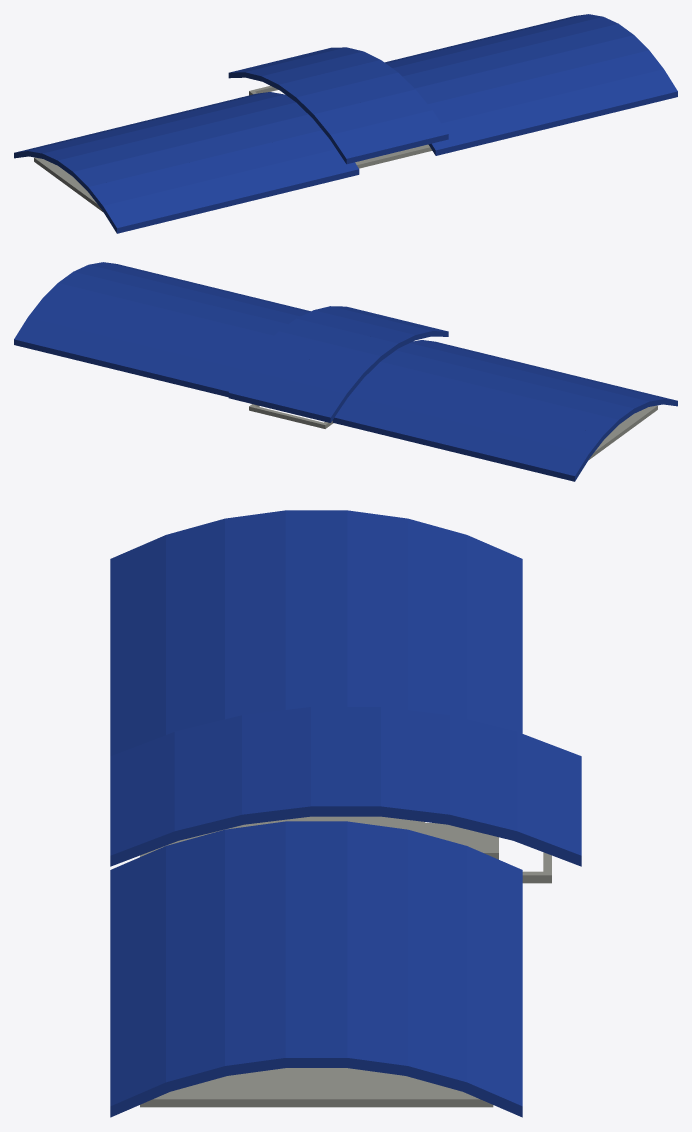
Rendered from 231110AC11-Institute-Var-2-IFC_Dachgeschoss_IfcSlab.dae.
3 renders of one model, top to bottom at view 1: azimuth 30°, elevation 25°; view 2: azimuth 150°, elevation 25°; view 3: azimuth 270°, elevation 25°, orthographic. The views are drawn at different scales.
Visible parts, largest first — view 1: 3x663a8XD65viEHNLVdTxd, 3qT9lE$bTCQB_T41jFK_q6, 3Kn4W2ZqD4K8KzX7iS3xhj, 01Q5XSApT1A8MVwFMrw27s, 0UobTn5dzETeVPsaqJjGpw, 1m13_kW2X8DhPK7Uom15kV, 0_6U2wqx5EygCAIw2ocirl, 0LG1dnAtn4qQamxBPgaWX7, 2j5_0TlNP02vq$h$fhXZI2, 0NhW4VLIbBiuXKiyGrq3kz, 2sqOrgHH1BIwrN$KcJhc_B, 03TjDzhOTFX9jbLMrZ04Ko (+10 smaller); view 2: 01DPZ9SBn5r9Sivd0bV8Ar, 1GL3Bl4yrCY9XKlcdMQiXb, 0hEXM06OrA5gv_ZOu0dPhm, 1sX1eJEdn4tx6WnOEIL8As, 0NhW4VLIbBiuXKiyGrq3kz, 03TjDzhOTFX9jbLMrZ04Ko, 0_6U2wqx5EygCAIw2ocirl, 09JX$lRj14w8LMwtAomZqY, 2j5_0TlNP02vq$h$fhXZI2, 0UobTn5dzETeVPsaqJjGpw, 2s4YT_DyvEIwBQu$XLcqVB, 1m13_kW2X8DhPK7Uom15kV (+10 smaller); view 3: 2j5_0TlNP02vq$h$fhXZI2, 03TjDzhOTFX9jbLMrZ04Ko, 1m13_kW2X8DhPK7Uom15kV, 01Q5XSApT1A8MVwFMrw27s, 1sX1eJEdn4tx6WnOEIL8As, 3qT9lE$bTCQB_T41jFK_q6, 1GL3Bl4yrCY9XKlcdMQiXb, 2qBBp57vj5yguk4qD5Rp6P, 0_6U2wqx5EygCAIw2ocirl, 0UobTn5dzETeVPsaqJjGpw, 0NhW4VLIbBiuXKiyGrq3kz, 3Kn4W2ZqD4K8KzX7iS3xhj (+10 smaller).
Part boxes in pixels (<box>): 3x663a8XD65viEHNLVdTxd: <box>102,149,359,233</box>; 3qT9lE$bTCQB_T41jFK_q6: <box>428,69,677,155</box>; 3Kn4W2ZqD4K8KzX7iS3xhj: <box>88,130,335,209</box>; 01Q5XSApT1A8MVwFMrw27s: <box>428,50,663,123</box>; 0UobTn5dzETeVPsaqJjGpw: <box>73,114,321,191</box>; 1m13_kW2X8DhPK7Uom15kV: <box>415,35,648,104</box>; 0_6U2wqx5EygCAIw2ocirl: <box>58,102,308,176</box>; 0LG1dnAtn4qQamxBPgaWX7: <box>329,110,448,164</box>; 2j5_0TlNP02vq$h$fhXZI2: <box>402,23,633,88</box>; 0NhW4VLIbBiuXKiyGrq3kz: <box>42,94,295,165</box>; 2sqOrgHH1BIwrN$KcJhc_B: <box>313,89,431,138</box>; 03TjDzhOTFX9jbLMrZ04Ko: <box>392,17,618,76</box>; 01DPZ9SBn5r9Sivd0bV8Ar: <box>332,395,589,481</box>; 1GL3Bl4yrCY9XKlcdMQiXb: <box>14,317,243,397</box>; 0hEXM06OrA5gv_ZOu0dPhm: <box>350,377,603,457</box>; 1sX1eJEdn4tx6WnOEIL8As: <box>28,298,258,369</box>; 0NhW4VLIbBiuXKiyGrq3kz: <box>365,362,618,439</box>; 03TjDzhOTFX9jbLMrZ04Ko: <box>43,283,273,350</box>; 0_6U2wqx5EygCAIw2ocirl: <box>381,350,633,424</box>; 09JX$lRj14w8LMwtAomZqY: <box>228,369,347,422</box>; 2j5_0TlNP02vq$h$fhXZI2: <box>58,271,287,335</box>; 0UobTn5dzETeVPsaqJjGpw: <box>396,343,649,413</box>; 2s4YT_DyvEIwBQu$XLcqVB: <box>245,348,363,397</box>; 1m13_kW2X8DhPK7Uom15kV: <box>73,265,300,324</box>; 2j5_0TlNP02vq$h$fhXZI2: <box>285,821,347,1067</box>; 03TjDzhOTFX9jbLMrZ04Ko: <box>346,821,408,1075</box>; 1m13_kW2X8DhPK7Uom15kV: <box>225,821,286,1075</box>; 01Q5XSApT1A8MVwFMrw27s: <box>166,829,227,1091</box>; 1sX1eJEdn4tx6WnOEIL8As: <box>406,830,466,1091</box>; 3qT9lE$bTCQB_T41jFK_q6: <box>110,846,169,1117</box>; 1GL3Bl4yrCY9XKlcdMQiXb: <box>463,846,522,1117</box>; 2qBBp57vj5yguk4qD5Rp6P: <box>140,816,551,1107</box>; 0_6U2wqx5EygCAIw2ocirl: <box>285,510,347,709</box>; 0UobTn5dzETeVPsaqJjGpw: <box>225,510,285,719</box>; 0NhW4VLIbBiuXKiyGrq3kz: <box>347,510,408,709</box>; 3Kn4W2ZqD4K8KzX7iS3xhj: <box>166,518,224,734</box>.
Bounding box in the file's own units: 44 × 16 × 3.35.
